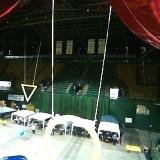Yellow_Circle_GShape: (43, 114, 101, 158)
Yellow_Triangle_Gshape: (20, 85, 38, 102)
